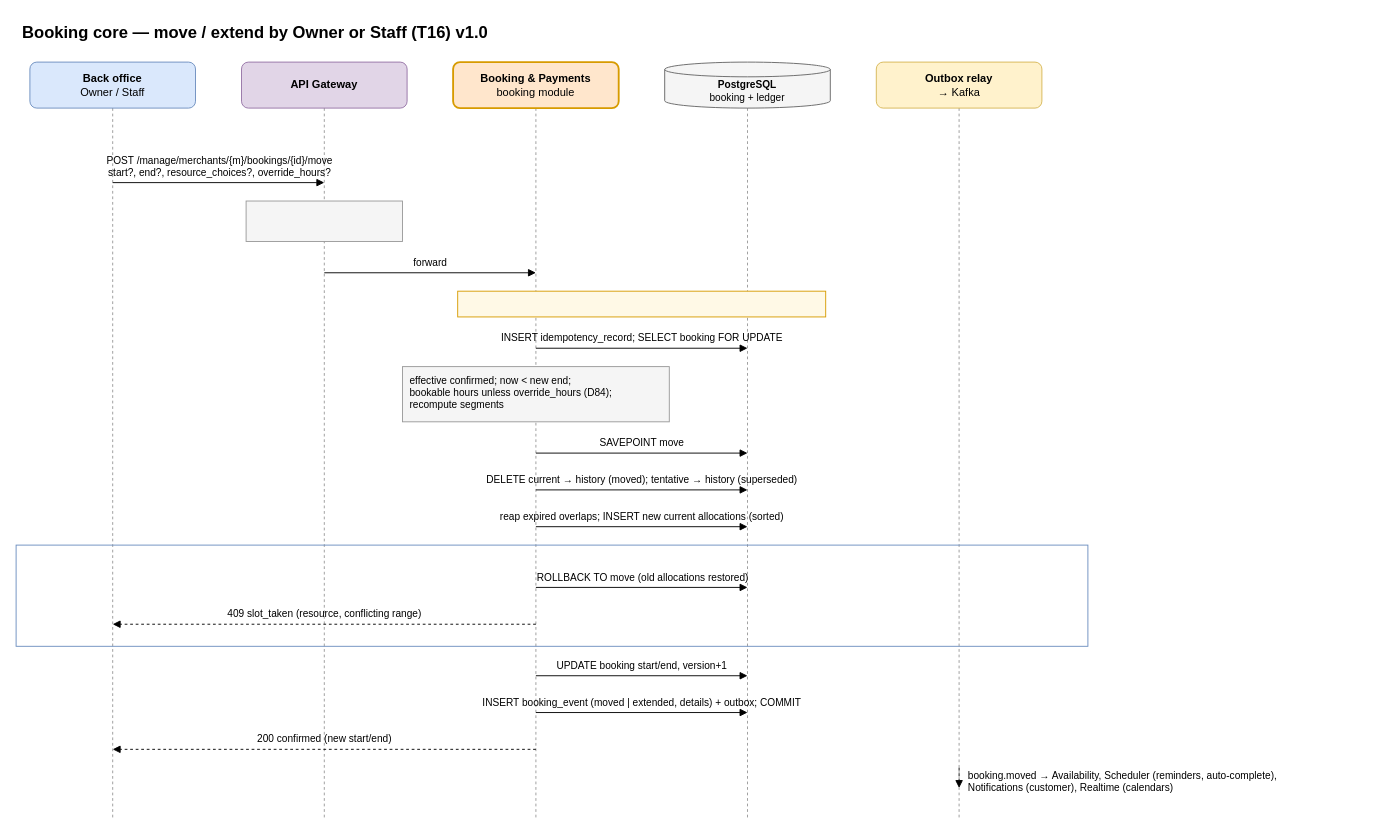
The diagram is 1391 pixels wide and 836 high, and some of its shapes have lost their labels. Here are the shapes that lost their labels. From the top down, the box of each, then its label:
(245, 200, 402, 242): merchant_id in path = token merchant
(457, 290, 826, 317): BEGIN
(15, 544, 1088, 646): alt 23P01 exclusion_violation
